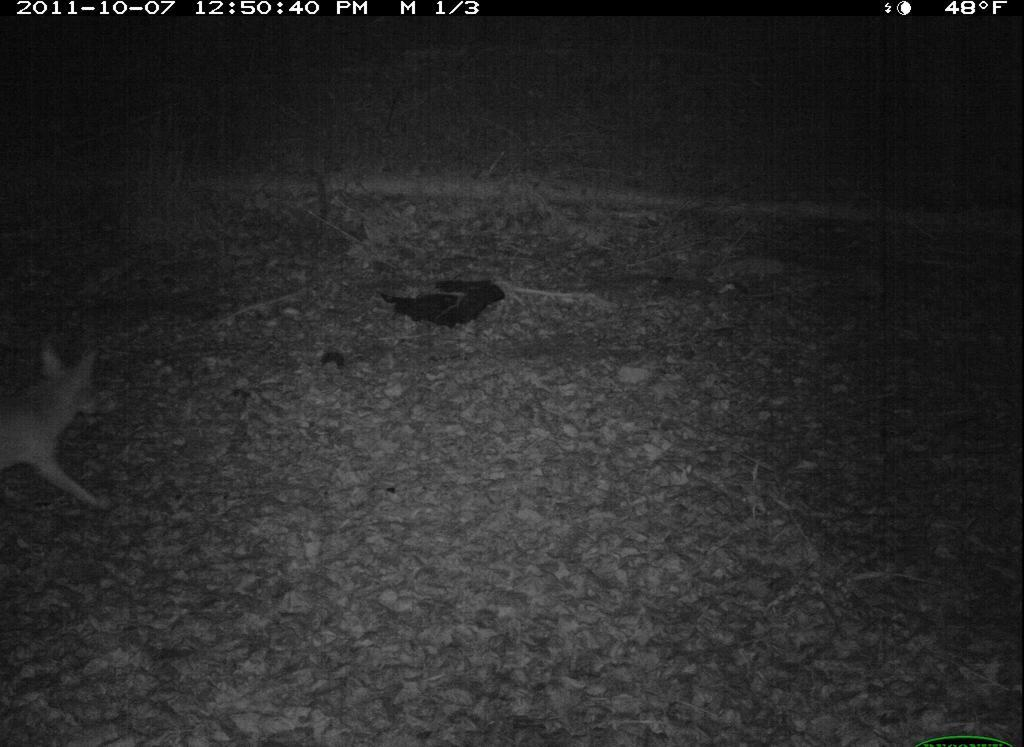coyote: (5, 340, 117, 518)
